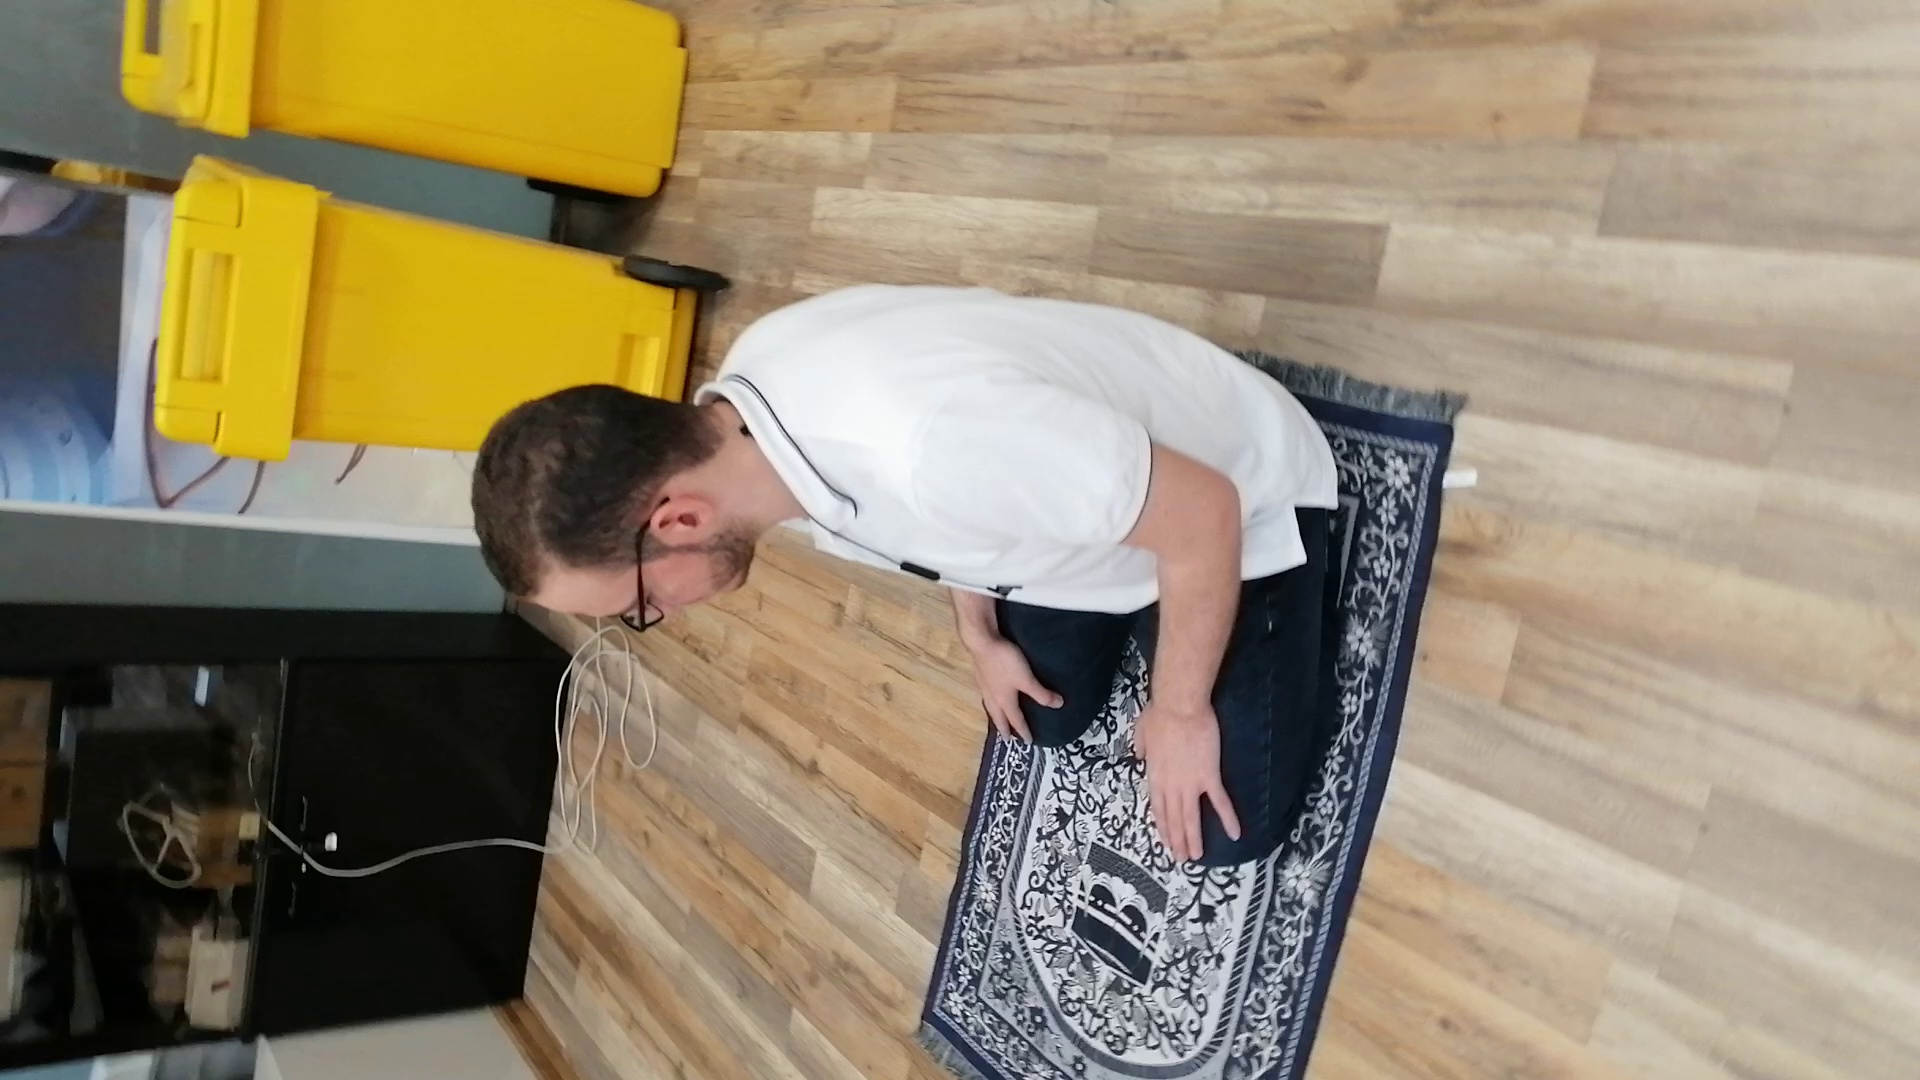sitting: (462, 274, 1354, 880)
